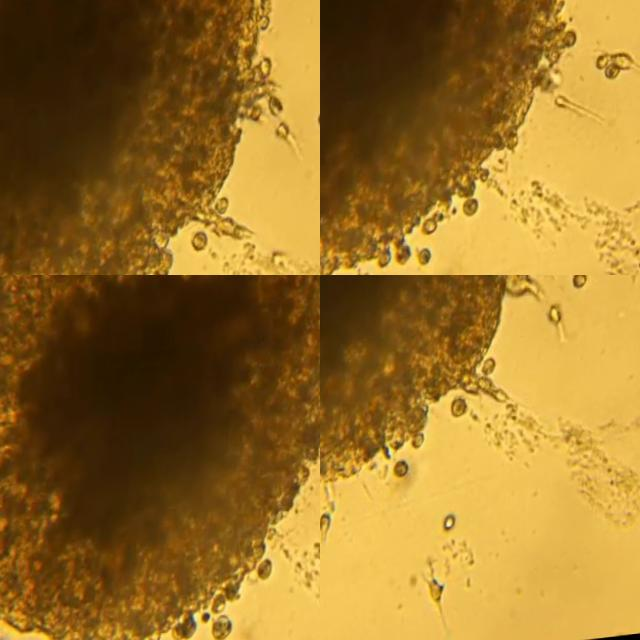cell: (562, 103, 609, 130), (601, 61, 640, 87), (441, 584, 457, 609), (460, 403, 479, 424), (198, 239, 217, 259), (222, 620, 241, 640), (328, 516, 341, 545), (577, 280, 595, 300), (555, 312, 568, 335), (265, 567, 281, 585), (279, 131, 295, 148), (490, 364, 506, 381), (403, 467, 419, 482), (428, 253, 441, 270), (454, 524, 469, 537)
tumor_mass: (320, 0, 583, 275), (320, 275, 549, 491)
